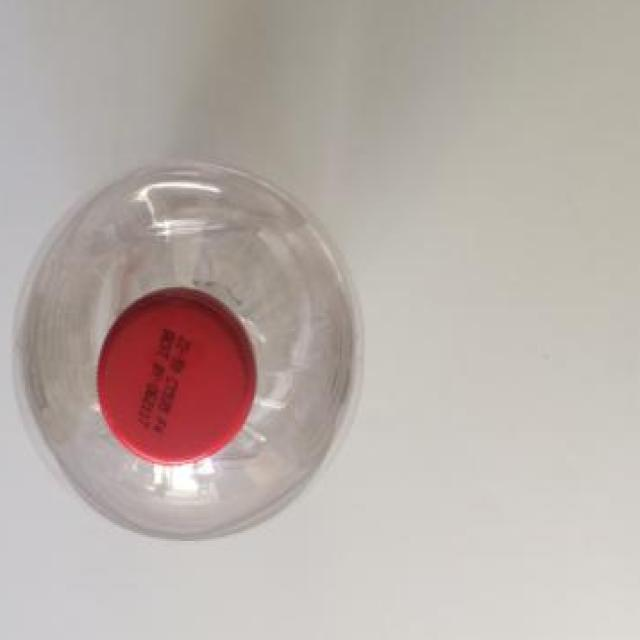organic: (10, 137, 372, 574)
